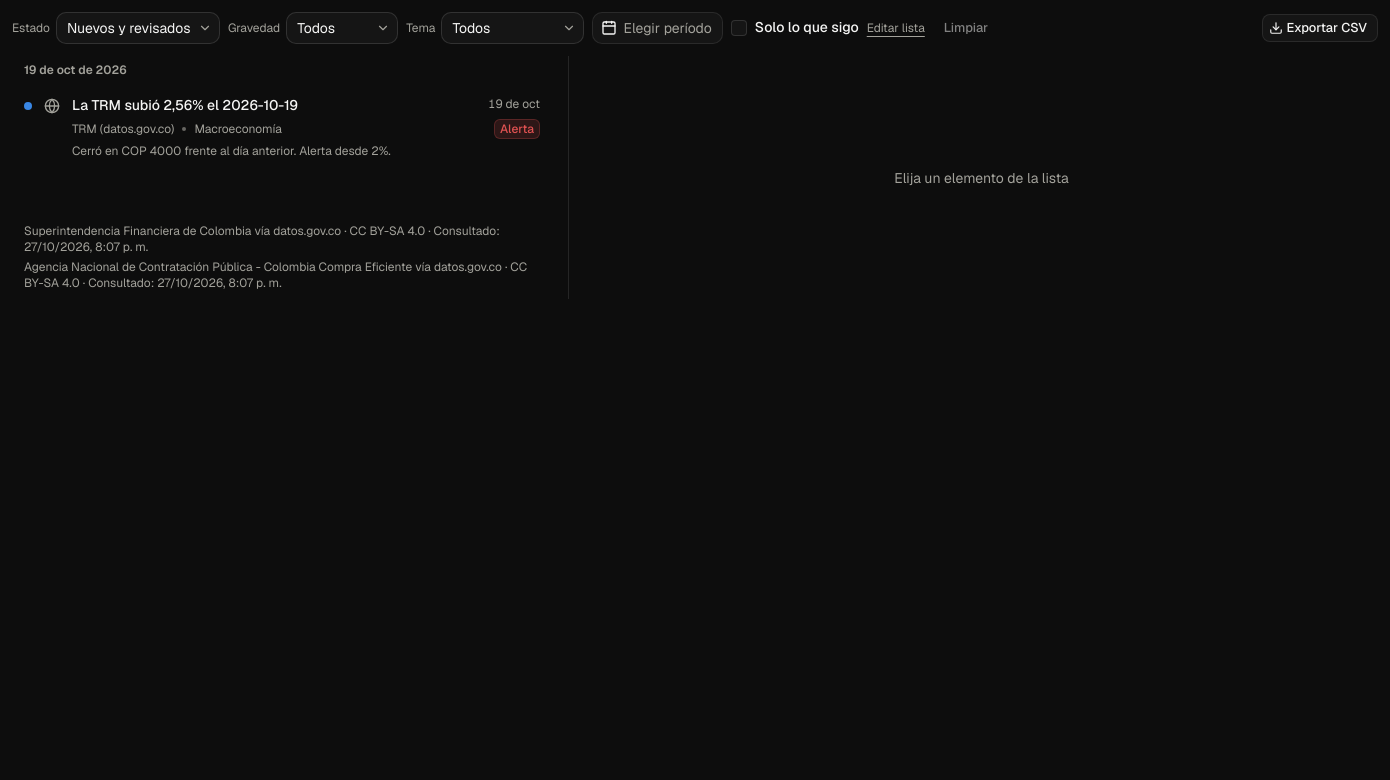
AvisosView › detail pane › asks to pick an aviso, then shows its rule and evidence in a fixed pane
Check: the text "Elija un elemento de la lista" is shown, box [894,169,1069,187]
Click the button "La TRM subió 2,56% el 2026-10-19": (185, 106) [72,96,298,115]
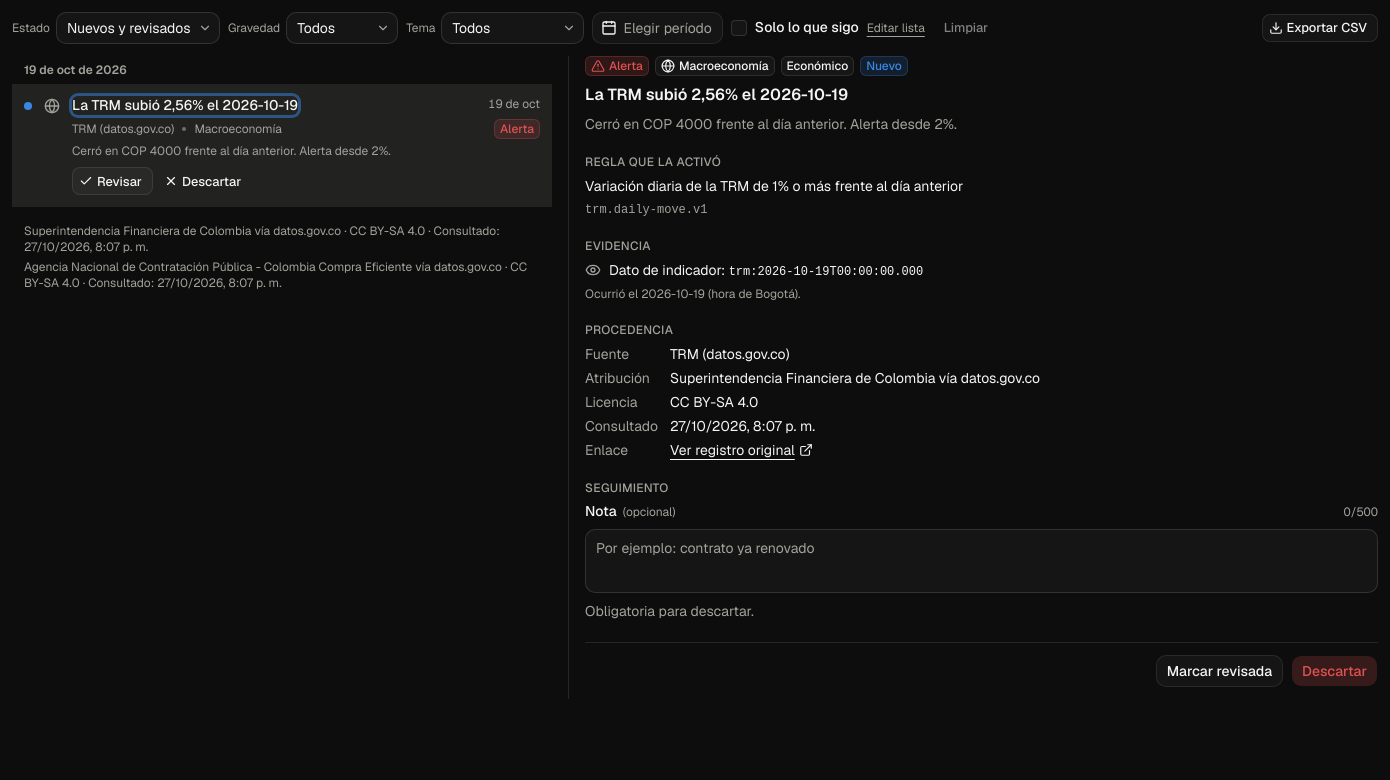
Check: the heading "Regla que la activó" is shown, box [585,154,721,170]
